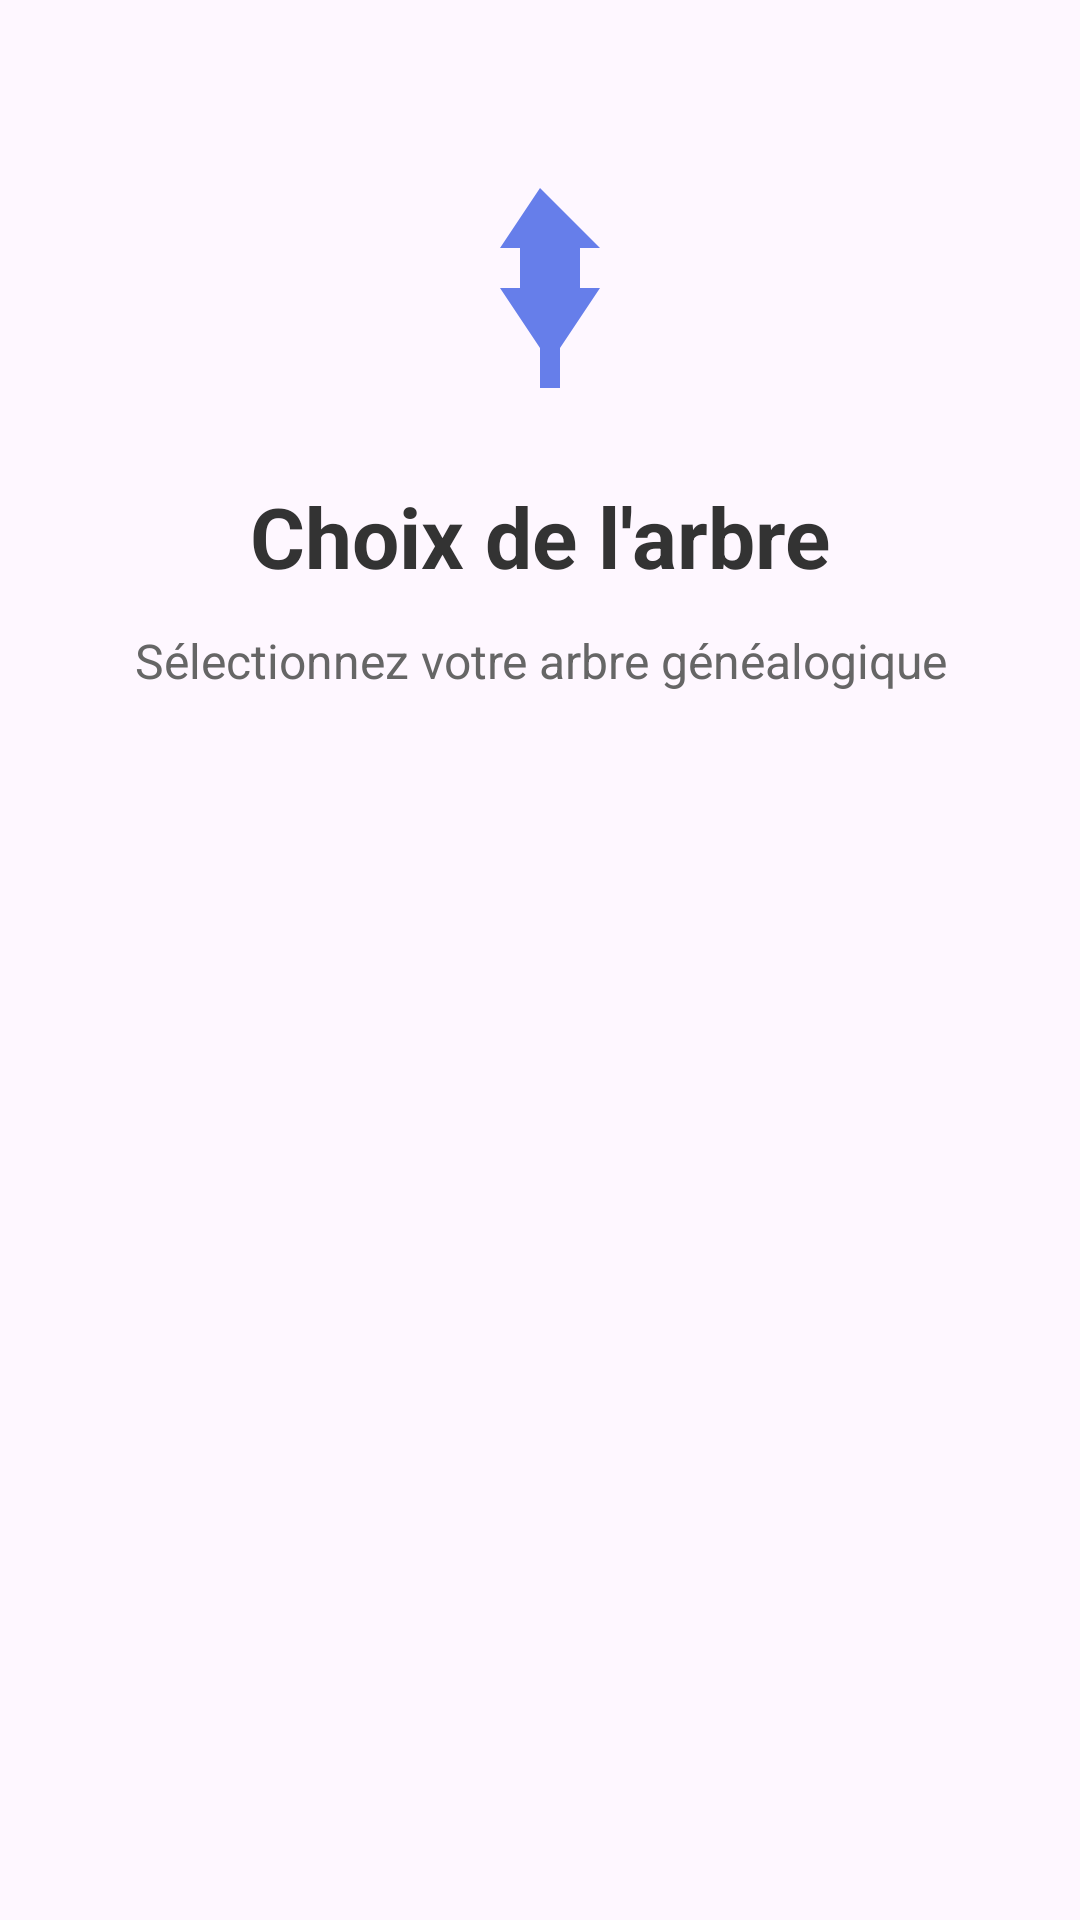

Icons on this 1080*1920 Android screen, each with its box as region(x1, y1, x2, y2):
tree: region(500, 188, 600, 388)
